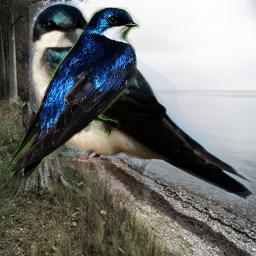Swallow: (29, 1, 256, 203), (5, 7, 140, 180)
